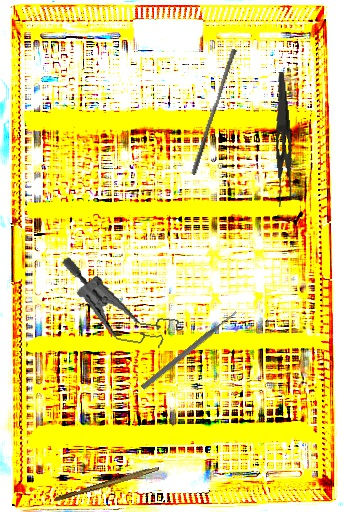Dressing Forceps: (263, 71, 299, 208)
Pusher: (139, 308, 240, 392), (191, 47, 237, 177)
Scalpel Handle: (54, 463, 160, 504)
Speculum: (50, 255, 193, 354)
